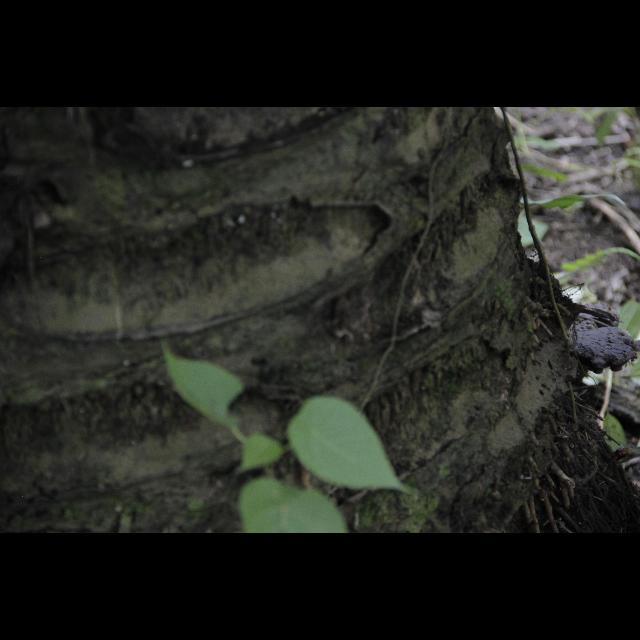ganoderma: (568, 325, 640, 378)
